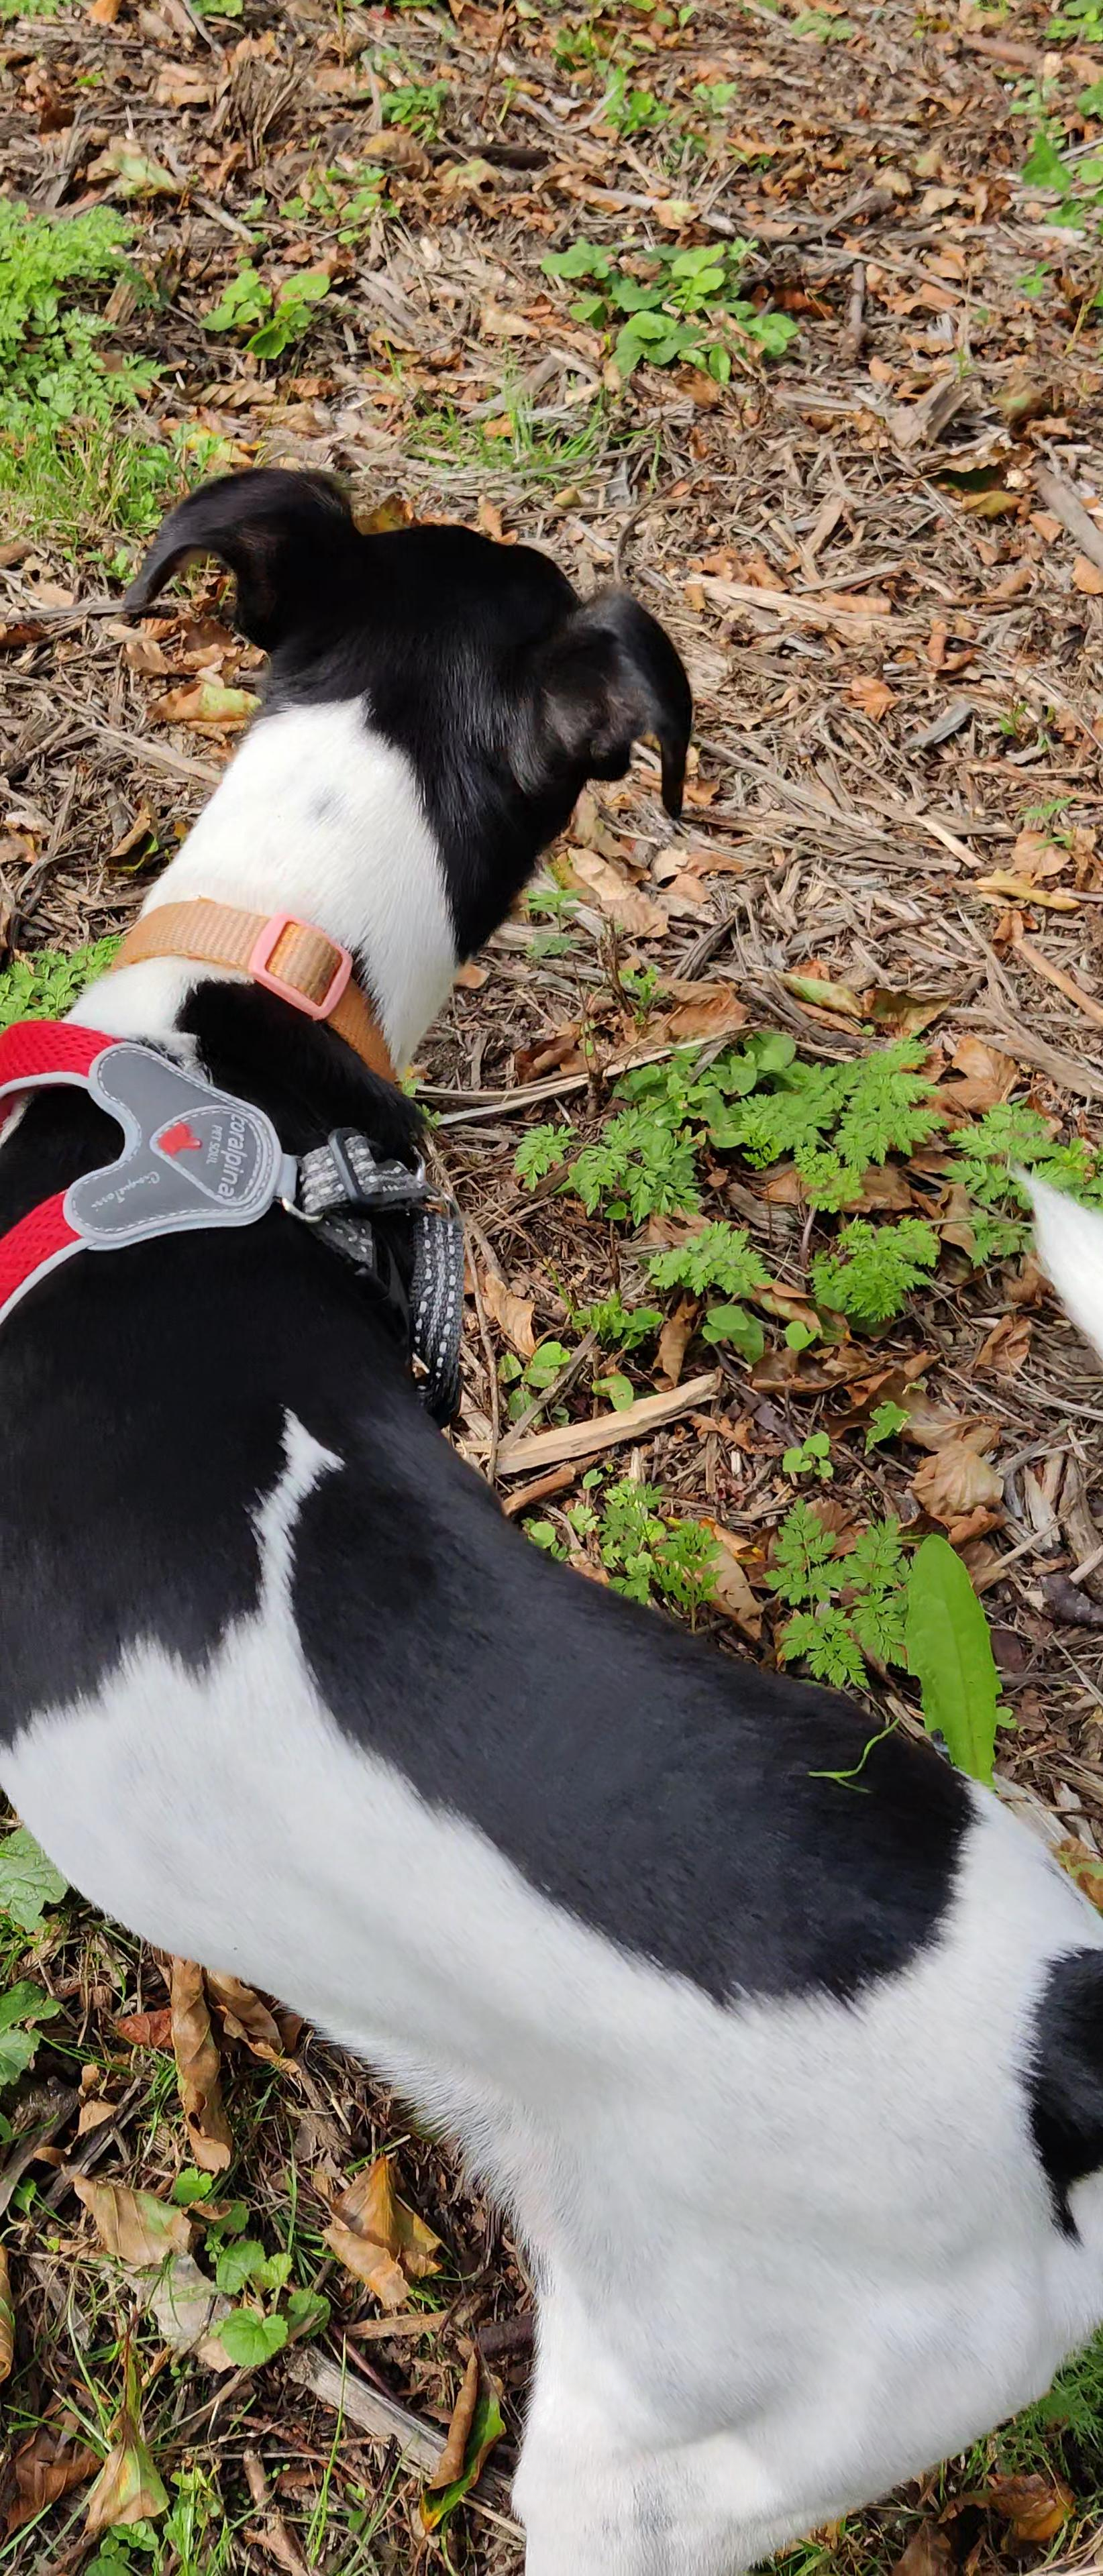Dog: (0, 462, 1103, 2576)
